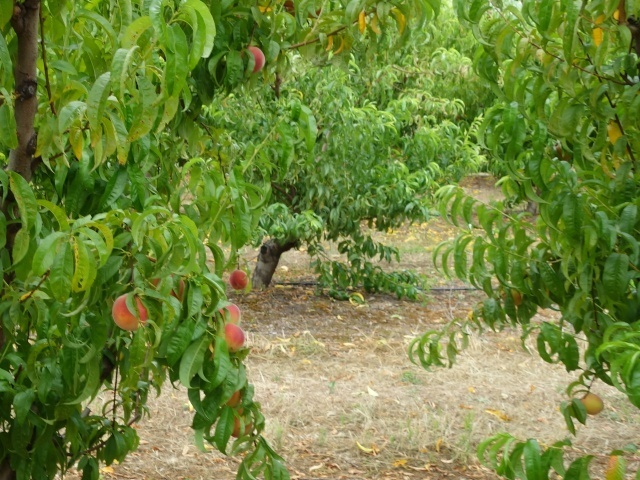peach: (106, 290, 153, 337), (212, 321, 249, 355), (224, 403, 254, 442), (239, 42, 270, 76), (215, 299, 246, 332), (577, 391, 607, 420), (227, 267, 252, 293)
